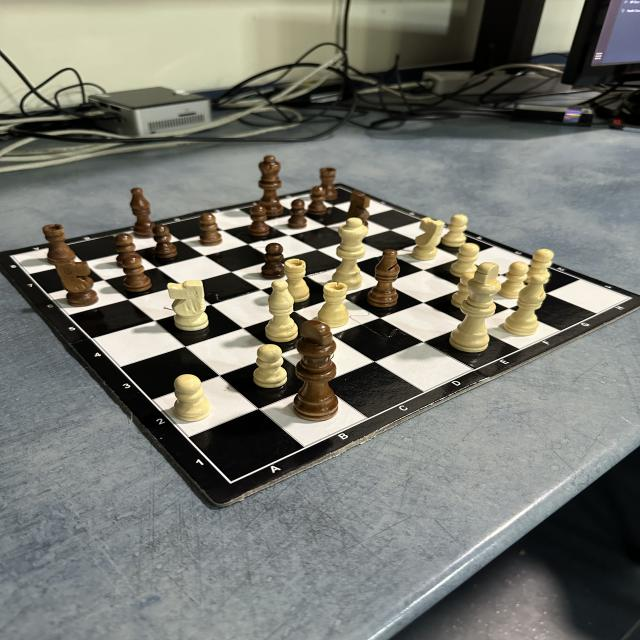Black-Bishop: (368, 248, 400, 310), (130, 186, 154, 238)
Black-King: (292, 322, 336, 421)
Black-Knight: (51, 260, 99, 306), (344, 190, 372, 227)
Black-Pawn: (120, 256, 150, 293), (152, 225, 176, 260), (260, 244, 284, 278), (196, 214, 221, 244), (114, 233, 137, 264), (249, 206, 269, 237), (288, 199, 308, 229), (309, 186, 327, 216)
Black-Queen: (257, 155, 282, 214)
Black-Rook: (41, 223, 76, 263), (321, 166, 336, 202)
White-Bishop: (504, 280, 545, 334), (264, 279, 296, 343)
White-King: (450, 261, 500, 352)
White-Knight: (168, 280, 210, 330), (412, 217, 444, 260)
White-Pawn: (173, 374, 209, 423), (255, 344, 286, 388), (499, 261, 528, 298), (449, 243, 480, 275), (526, 247, 554, 281), (444, 213, 468, 247), (453, 272, 473, 308)
White-Queen: (331, 217, 367, 288)
White-Rook: (316, 281, 351, 327), (283, 260, 309, 302)
